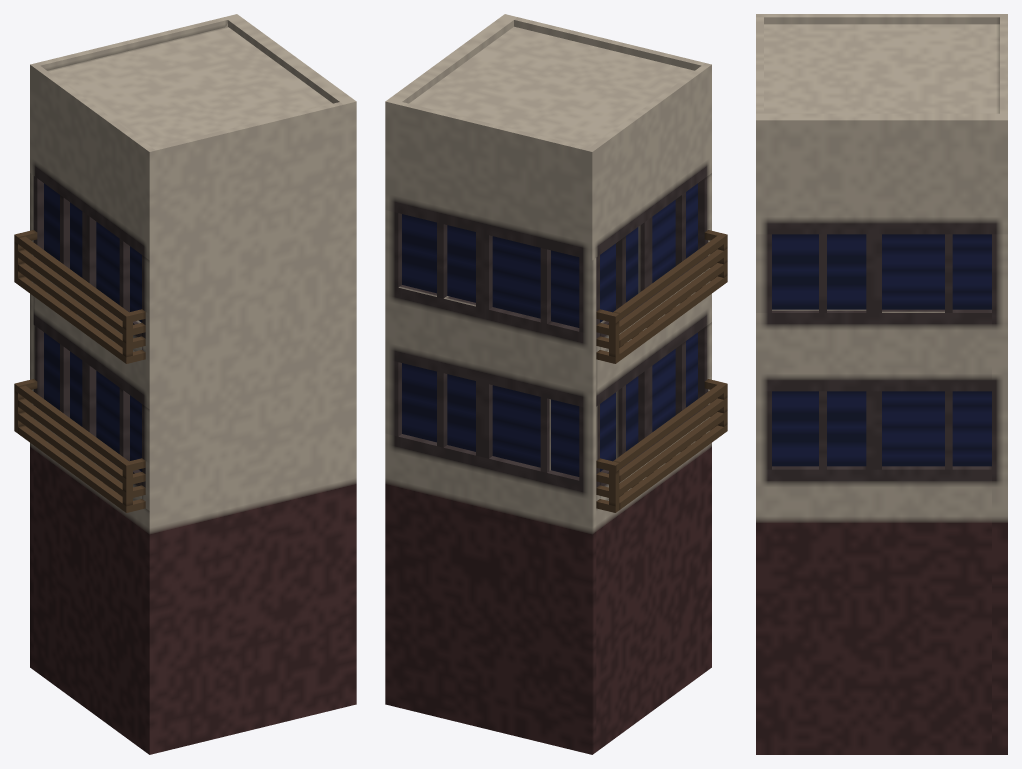
The picture shows the model from 3 angles, left to right: view 1: azimuth 30°, elevation 25°; view 2: azimuth 150°, elevation 25°; view 3: azimuth 270°, elevation 25°; orthographic projection. The views are drawn at different scales.
Parts seen in each view (by area): view 1: Content; view 2: Content; view 3: Content.
Part boxes in pixels (x1=…): Content: x1=14, y1=14, x2=356, y2=754; Content: x1=385, y1=14, x2=727, y2=754; Content: x1=756, y1=14, x2=1007, y2=754.
Size of the model in its own units: 35 by 89 by 32.
1 material, 1 textured.
